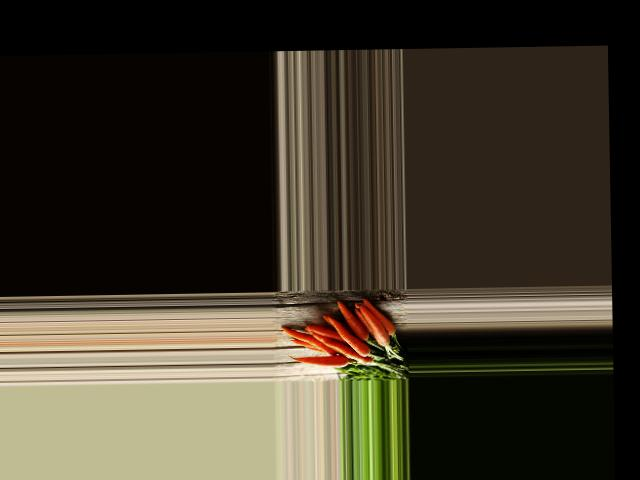carrot: (293, 353, 347, 372)
